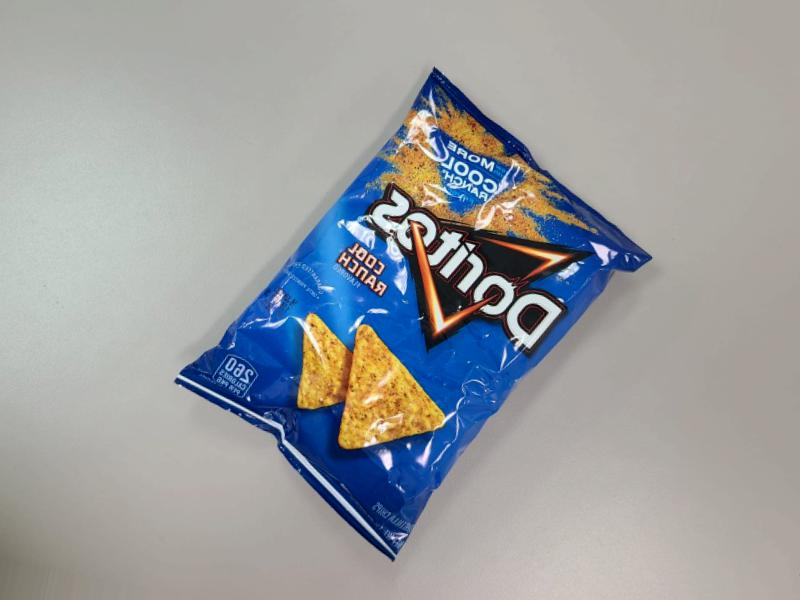doritos: (238, 55, 662, 600)
